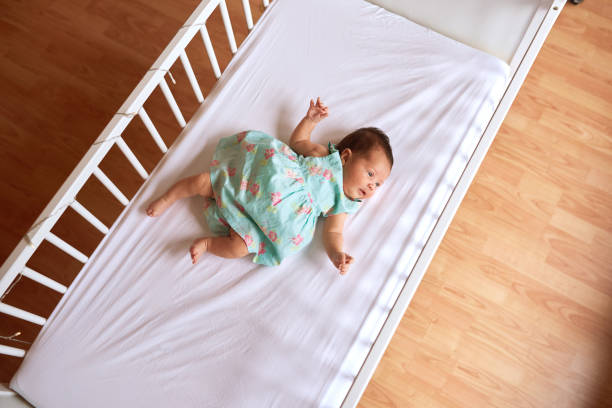baby: (146, 98, 392, 273)
crib: (0, 0, 562, 405)
